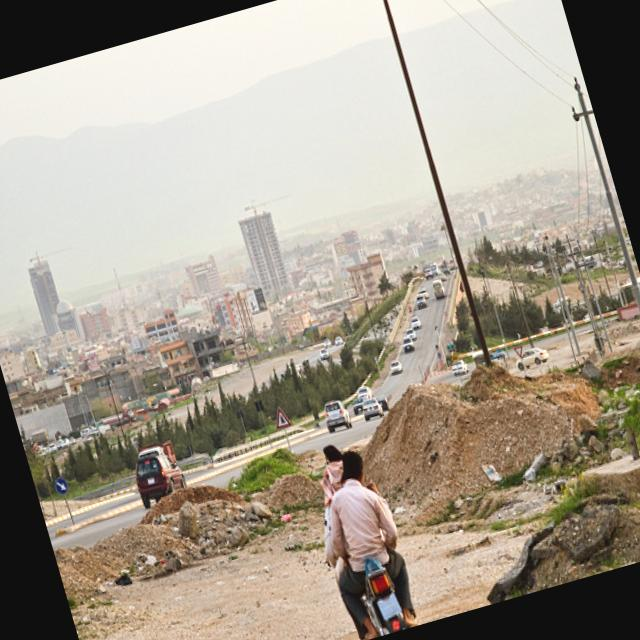Vehicle: (353, 561, 423, 638), (130, 448, 190, 510), (319, 398, 354, 433), (360, 394, 384, 422), (354, 382, 374, 402), (375, 391, 391, 413), (431, 279, 448, 299), (349, 396, 366, 415), (400, 336, 415, 354), (414, 294, 428, 310), (404, 327, 418, 342), (388, 358, 402, 373), (416, 286, 430, 300), (408, 314, 421, 328)
